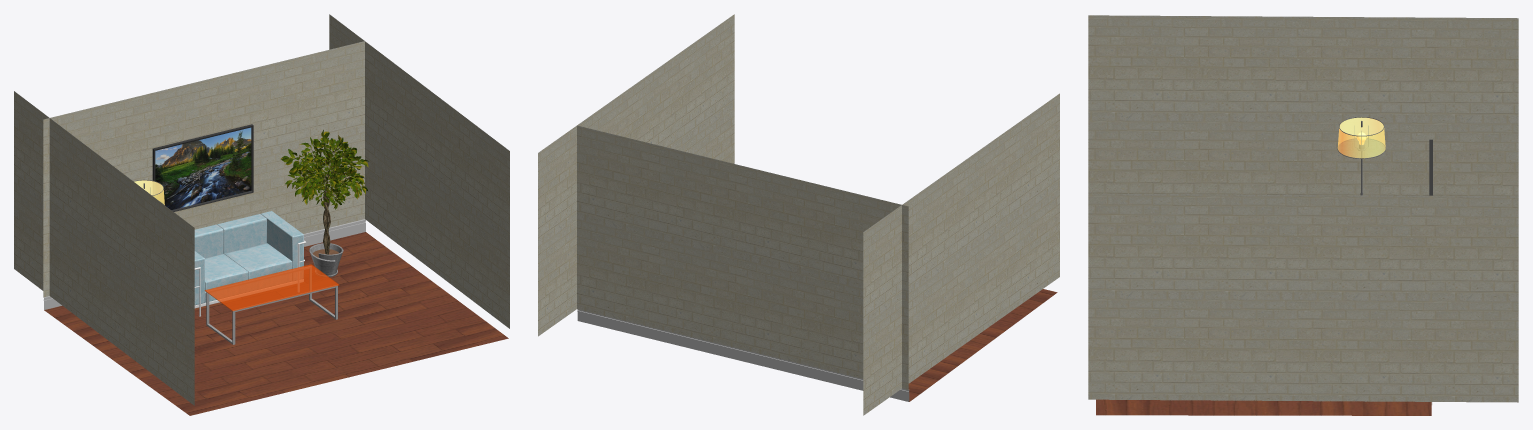
Rendered from Melrose_White_Leather_Sofa_Double_Seater_InScene_1K.glb.
3 renders of one model, left to right at view 1: azimuth 30°, elevation 25°; view 2: azimuth 150°, elevation 25°; view 3: azimuth 270°, elevation 25°, orthographic. The views are drawn at different scales.
Visible parts, largest first — view 1: Copy of wall, Floor, wall, Copy of Copy of wall, wall.001, arch75_048_001_primitive0, Glass.001, Cube.036, Cube.039, Cube.038, table leg, Cube.021 (+6 smaller); view 2: wall, Copy of wall, Copy of Copy of wall, wallplank, Floor; view 3: Copy of Copy of wall, Copy of wall, Floor, Obj_09, Obj_06.
Part boxes in pixels (x1,y1,x2,y2): Copy of wall: [14, 91, 194, 405]; Floor: [44, 232, 508, 415]; wall: [43, 41, 364, 297]; Copy of Copy of wall: [329, 14, 509, 328]; wall.001: [152, 124, 253, 211]; arch75_048_001_primitive0: [280, 130, 368, 209]; Glass.001: [204, 264, 339, 311]; Cube.036: [224, 243, 292, 280]; Cube.039: [261, 211, 303, 280]; Cube.038: [217, 214, 266, 253]; table leg: [206, 266, 337, 344]; Cube.021: [205, 254, 248, 291]; wall: [577, 125, 908, 389]; Copy of wall: [863, 93, 1059, 415]; Copy of Copy of wall: [538, 14, 734, 336]; wallplank: [577, 309, 909, 401]; Floor: [908, 289, 1057, 401]; Copy of Copy of wall: [1088, 193, 1518, 402]; Copy of wall: [1088, 15, 1518, 196]; Floor: [1096, 399, 1431, 415]; Obj_09: [1337, 117, 1385, 158]; Obj_06: [1339, 117, 1383, 135].
Size of the model in its own units: 4.21 by 2.37 by 4.19.
17 materials, 9 textured.
